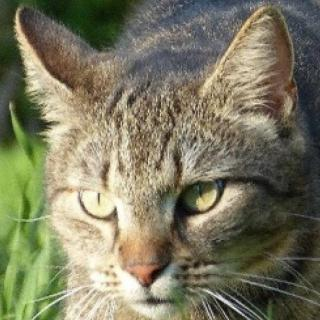cat: (13, 0, 302, 320)
nose: (116, 231, 175, 293)
